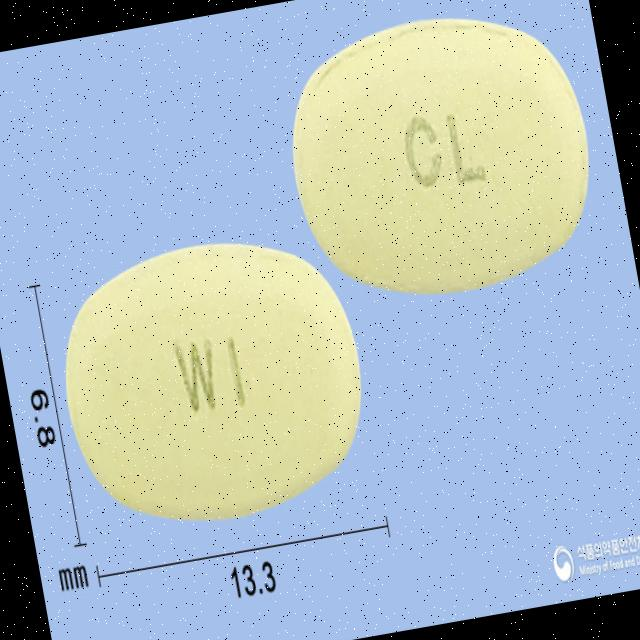Clathron - 500mg: (41, 216, 385, 550), (270, 0, 609, 315)
